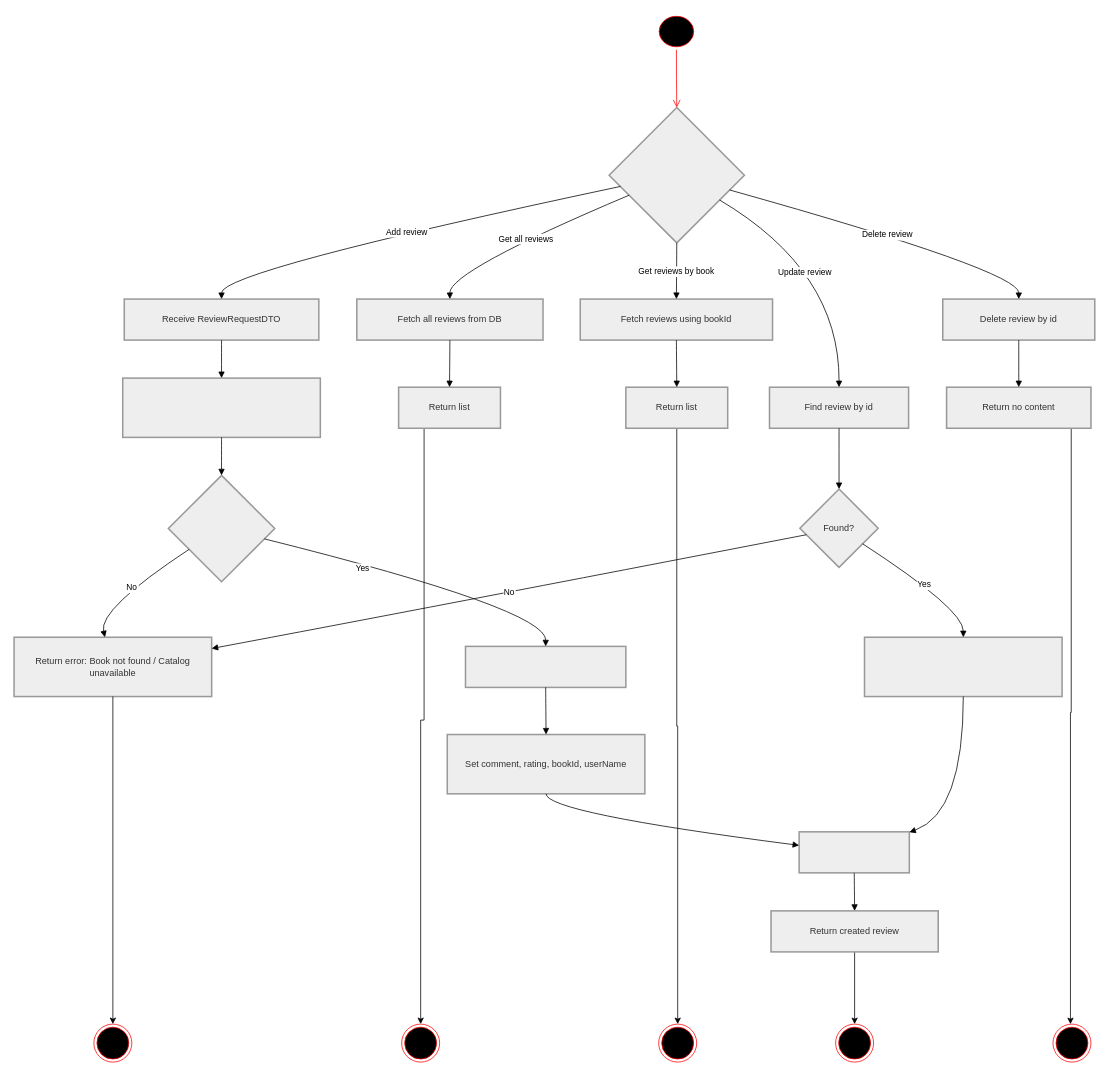
Some shapes in this 1108 by 1075 pixel diagram are drawn without their labels. Here are the shapes that lost their labels. From the top down, the centre of each, then its label:
(676,174): Requested action
(221,407): Check book exists in Catalog Service
(221,528): Book exists?
(545,666): Create Review entity
(962,666): Update comment and rating
(854,852): Save review
